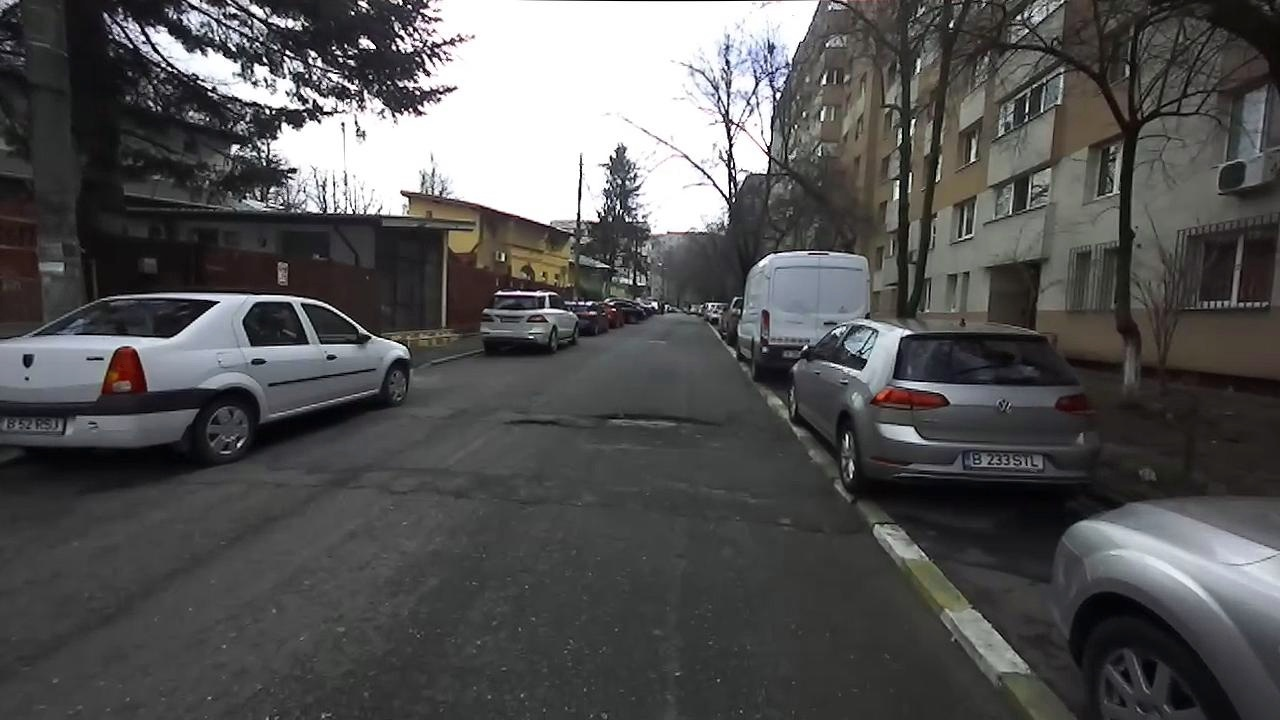pothole: (588, 410, 724, 432), (768, 517, 856, 538), (500, 415, 572, 429)
